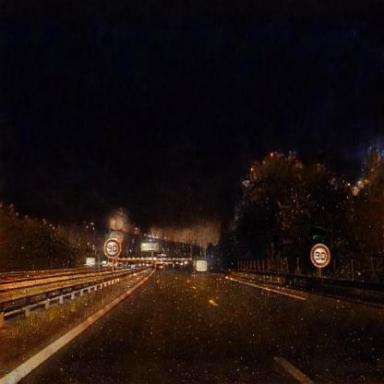Speed_limit_90: (312, 244, 331, 268), (104, 238, 120, 258)
